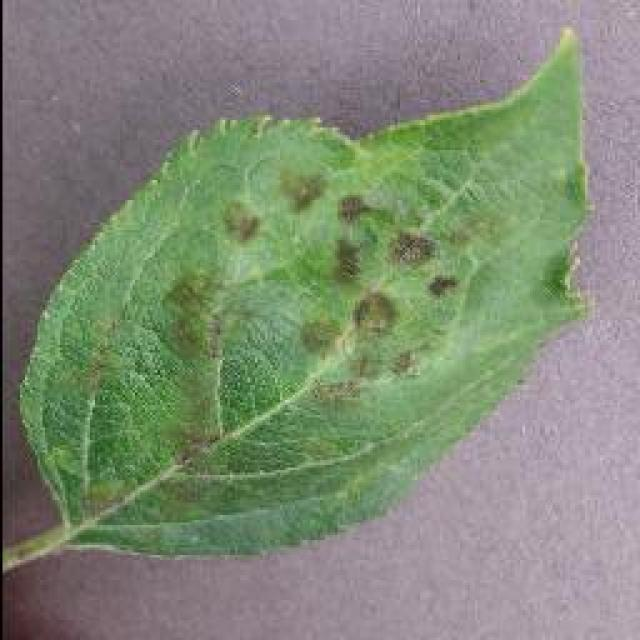apple scab disease: (7, 22, 595, 570)
